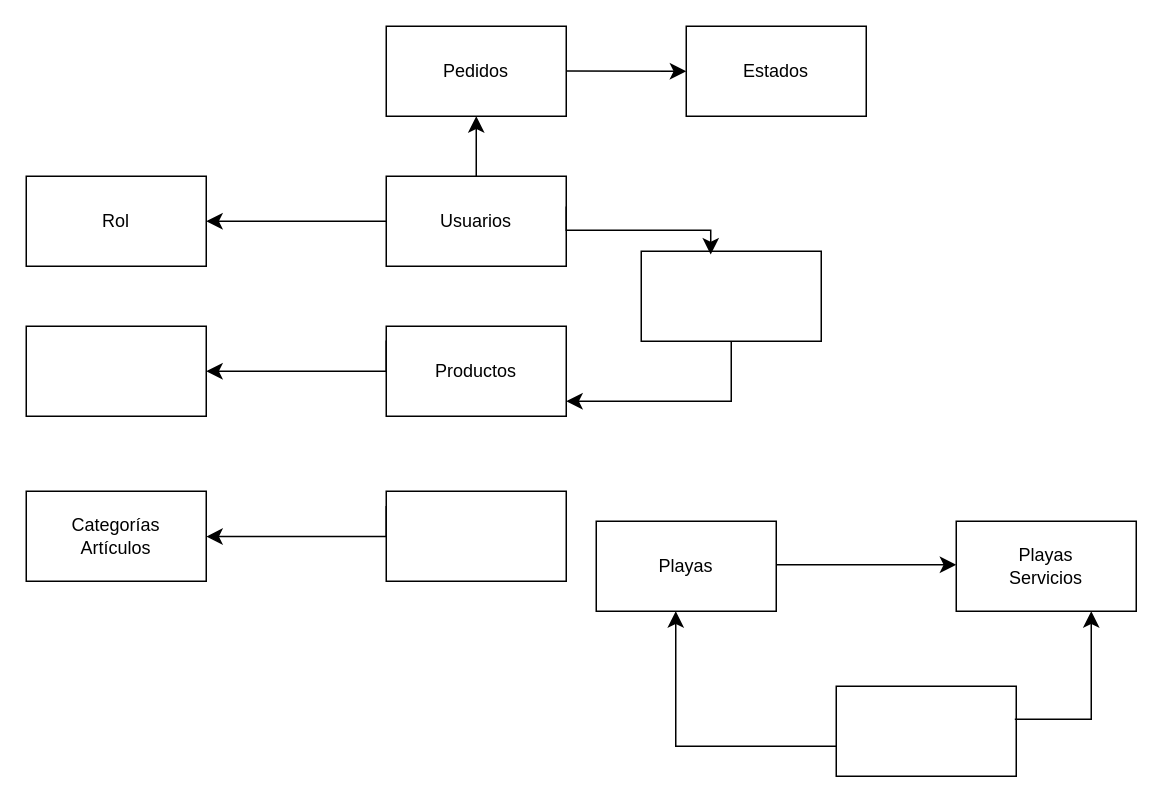
Some shapes in this 1163 by 803 pixel diagram are drawn without their labels. The centre of each missing label's shape, as x and y in pixels:
"Artículos" belongs at point 475,535.
"Carrito" belongs at point 730,295.
"Categorías Productos" belongs at point 115,370.
"Servicios" belongs at point 925,730.
